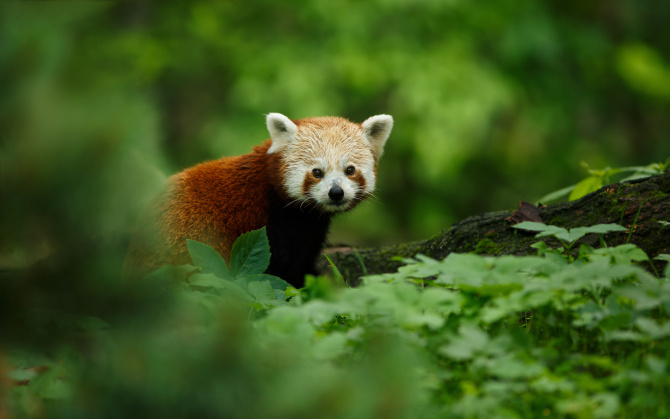red_panda: (113, 115, 410, 296)
